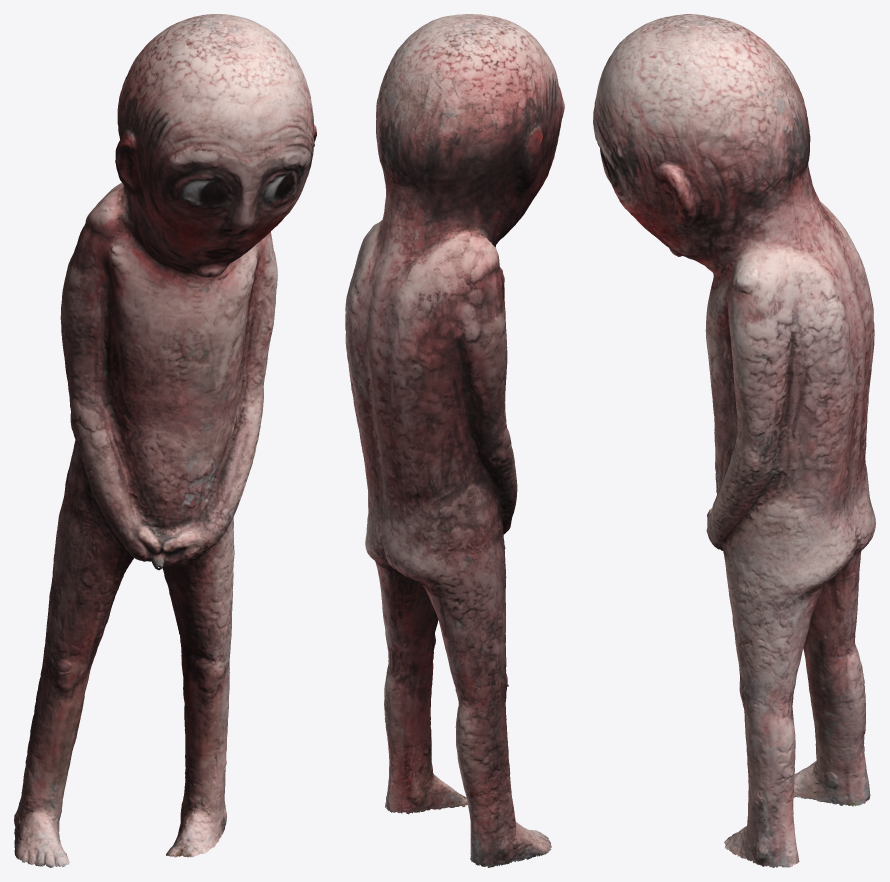
Rendered from bad-bad-boy.glb.
3 views of the same model, side by side, from view 1: azimuth 30°, elevation 25°; view 2: azimuth 150°, elevation 25°; view 3: azimuth 270°, elevation 25° (orthographic). The views are drawn at different scales.
Parts seen in each view (by area): view 1: BadBadBoy; view 2: BadBadBoy; view 3: BadBadBoy.
Part boxes in pixels (left/top/right/bottom): BadBadBoy: left=14, top=14, right=316, bottom=867; BadBadBoy: left=345, top=14, right=564, bottom=867; BadBadBoy: left=593, top=14, right=875, bottom=867.
Bounding box in the file's own units: 0.4355 × 1.5 × 0.4671.
Materials: 1 (1 with a texture image).
